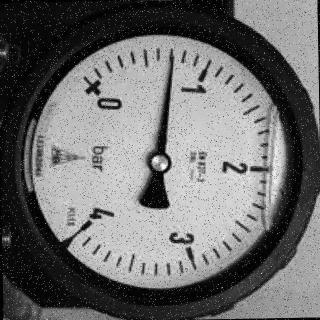gauge: (5, 6, 320, 313), (72, 71, 126, 121), (61, 198, 107, 250), (145, 152, 173, 175), (165, 48, 178, 64)
